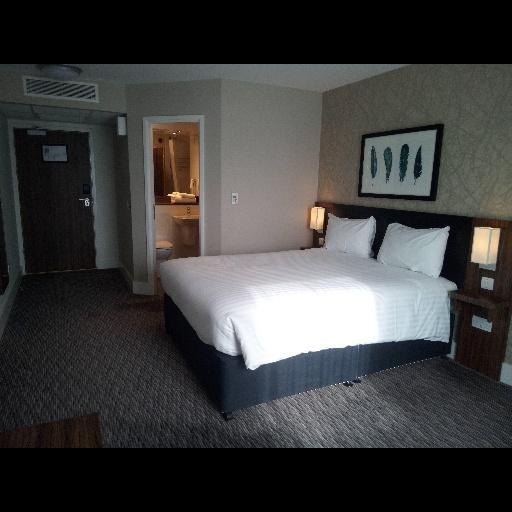clean_bed: (155, 203, 458, 415)
clean_floor: (9, 265, 511, 445)
organised_pillow: (316, 216, 450, 274)
